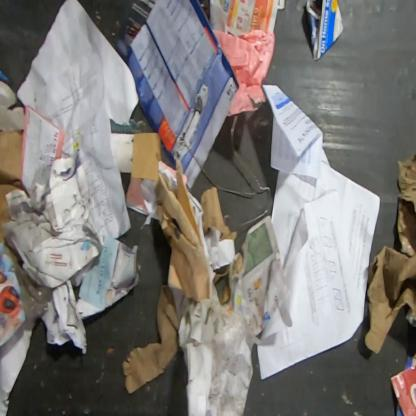cardboard: (363, 150, 415, 356), (0, 130, 23, 244), (110, 132, 162, 181), (200, 185, 238, 242)
soft_plastic: (185, 114, 273, 231), (2, 244, 57, 323)
